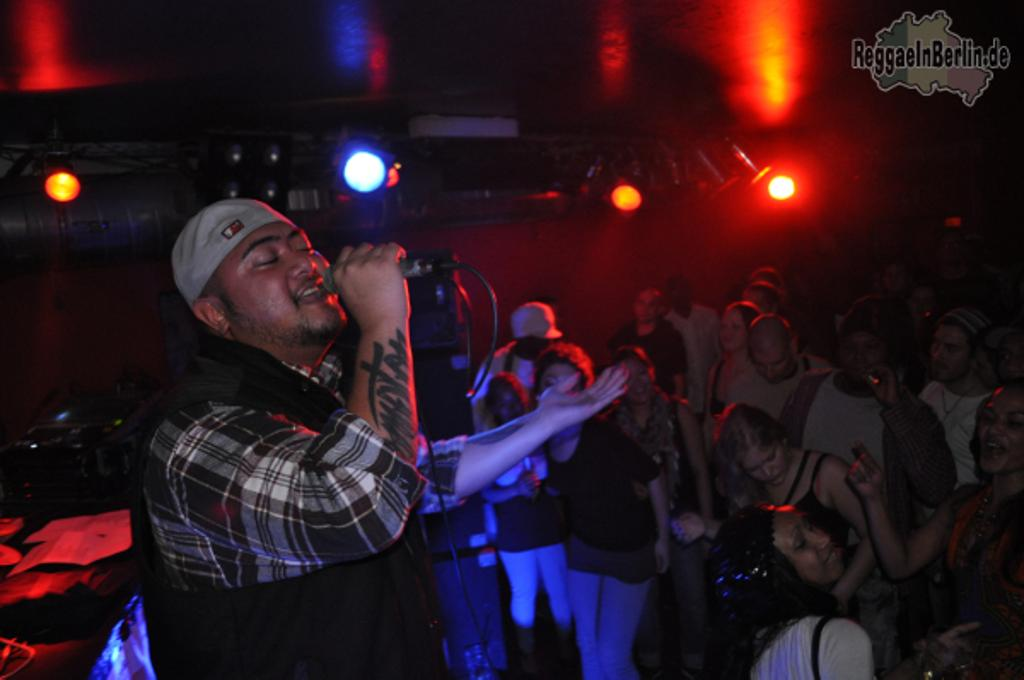face: (224, 218, 347, 337), (766, 505, 843, 584), (977, 387, 1023, 473), (540, 367, 581, 437), (842, 330, 888, 385), (748, 334, 792, 384), (741, 440, 785, 485), (617, 361, 650, 403), (720, 312, 747, 351), (635, 291, 659, 321)
